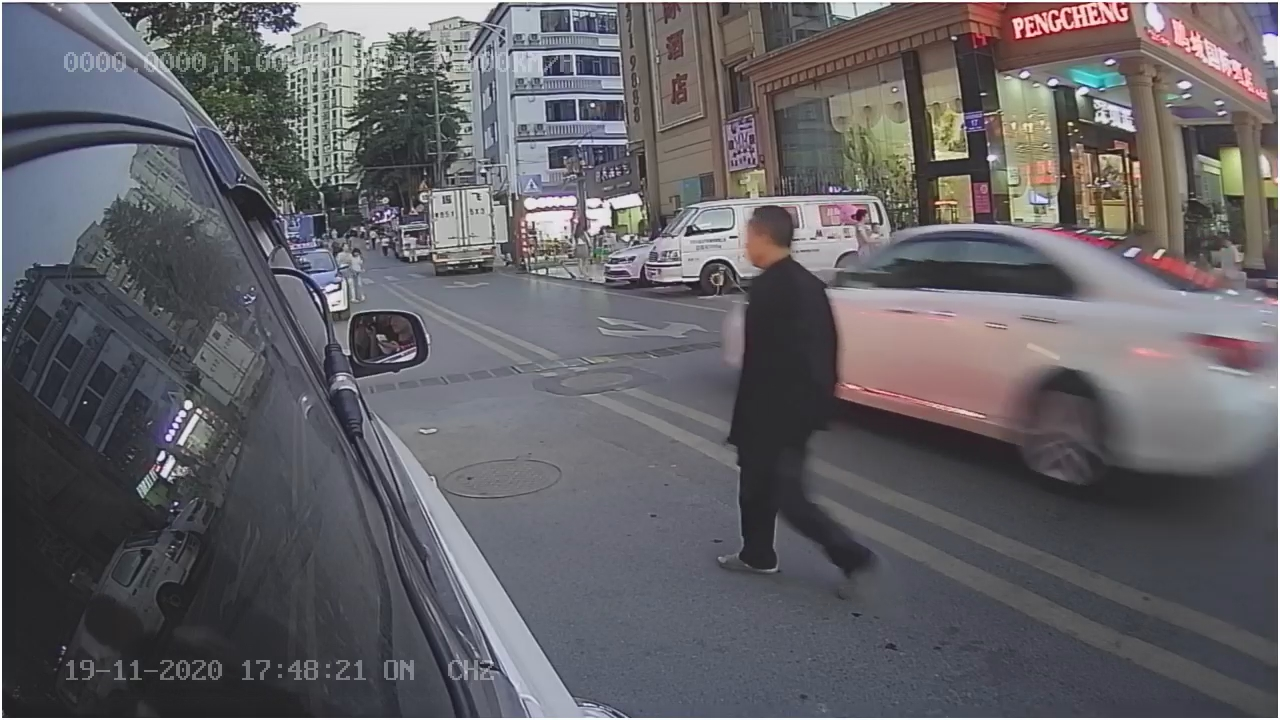person: (720, 208, 883, 595)
